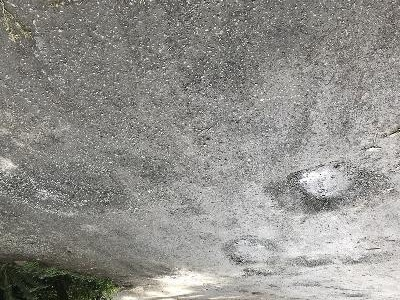pothole: (0, 160, 132, 218), (269, 159, 377, 214), (218, 236, 285, 267), (338, 233, 395, 266), (291, 253, 333, 269)
